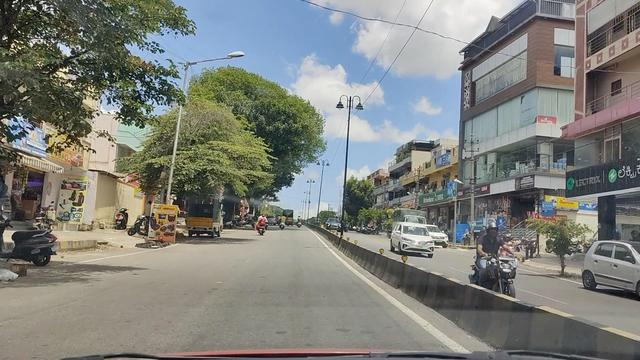HMV: (183, 196, 224, 239)
